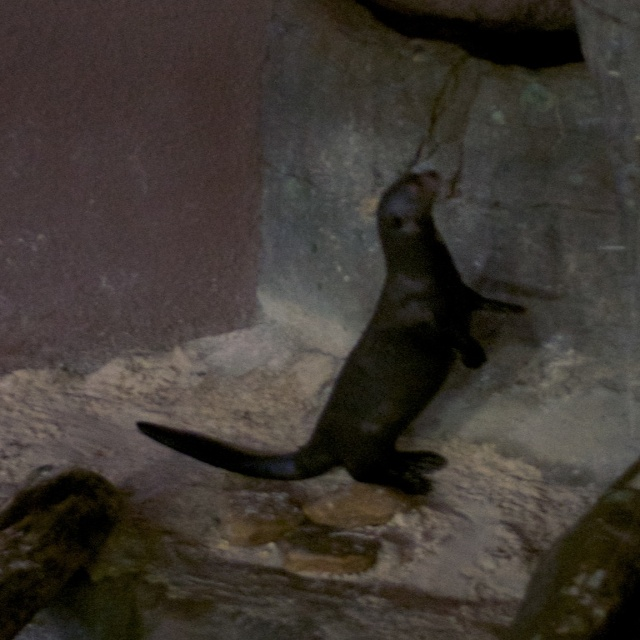Otter: (124, 155, 553, 498)
